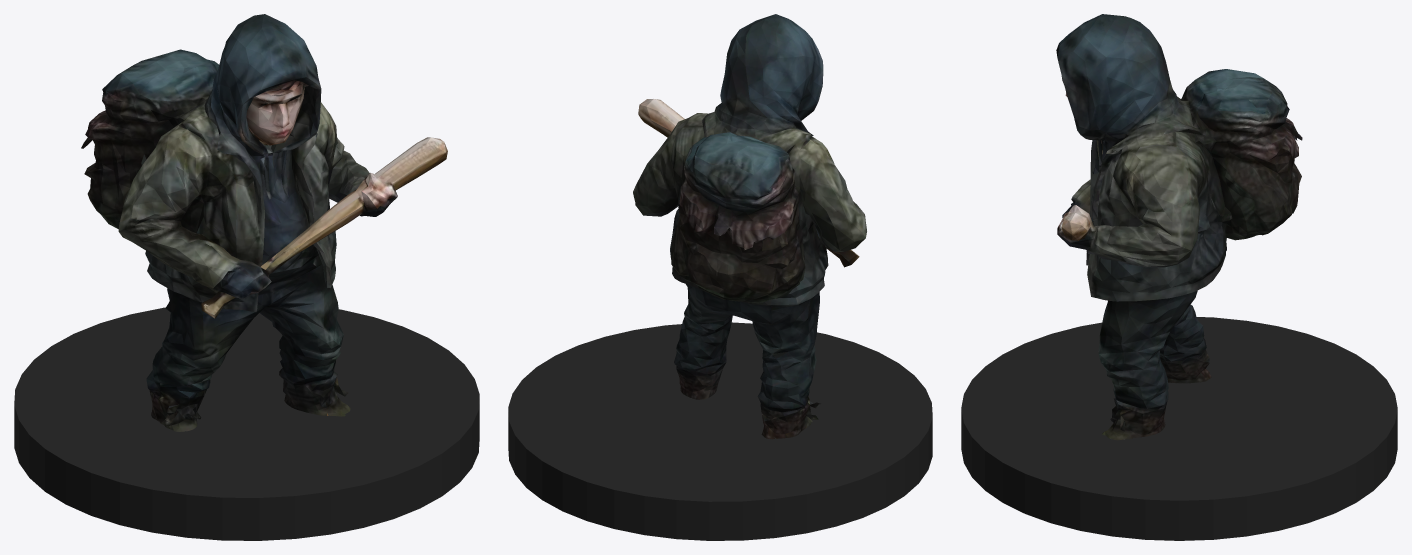
File: john-price.glb
3 views of the same model, side by side, from view 1: azimuth 30°, elevation 25°; view 2: azimuth 150°, elevation 25°; view 3: azimuth 270°, elevation 25° (orthographic). The views are drawn at different scales.
Visible parts, largest first — view 1: base, figure; view 2: base, figure; view 3: base, figure.
Part boxes in pixels (<box>): base: <box>14,307,479,540</box>; figure: <box>81,14,447,431</box>; base: <box>508,322,932,540</box>; figure: <box>633,14,866,439</box>; base: <box>961,317,1397,540</box>; figure: <box>1056,14,1302,440</box>.
Size of the model in its own units: 1.18 by 1.27 by 1.18.
Materials: 2 (1 with a texture image).
